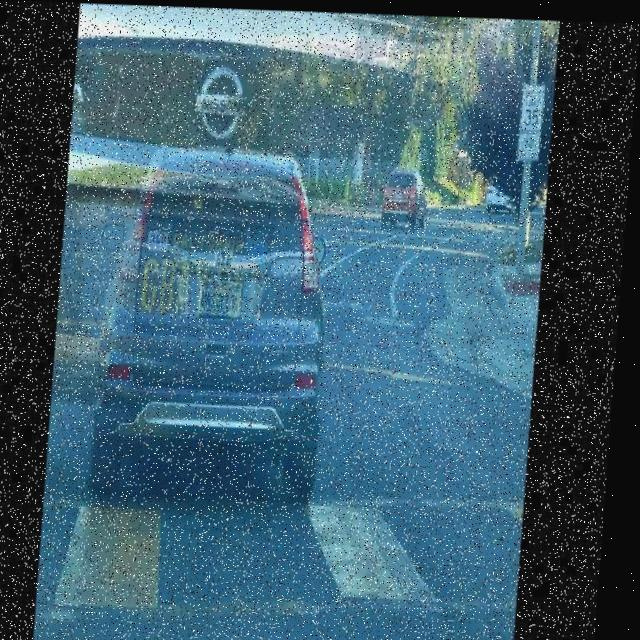LicensePlate: (204, 276, 248, 318)
